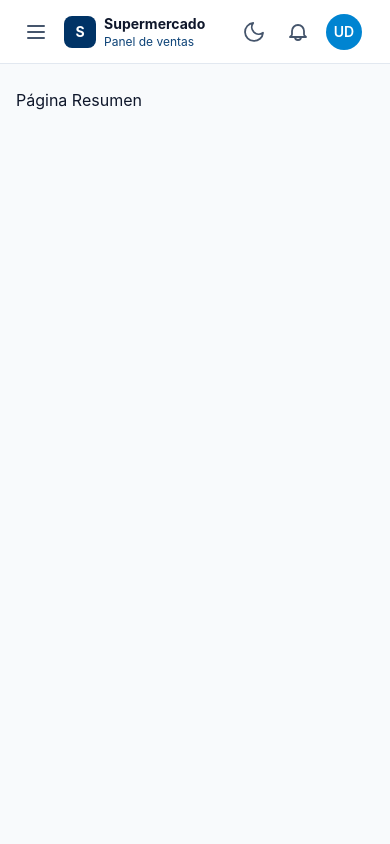
Test: PanelLayout: cajón móvil › al elegir una opción navega y se cierra
Click the button named "Abrir menú".
click(36, 32)  # box [16, 12, 56, 52]
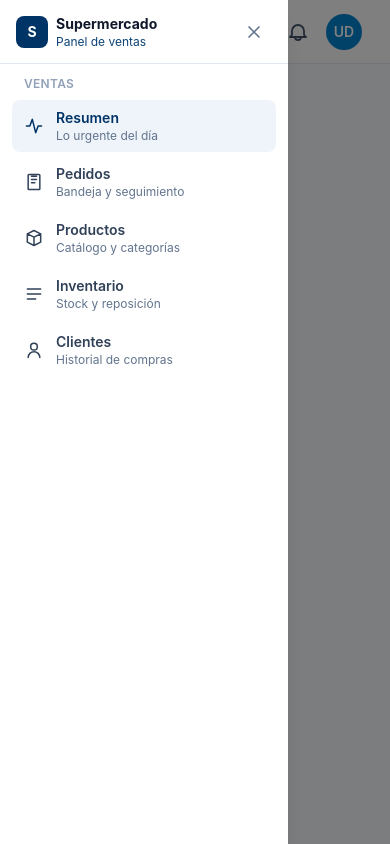
Click the link "Pedidos Bandeja y seguimiento".
click(104, 182)  # box [24, 165, 184, 199]
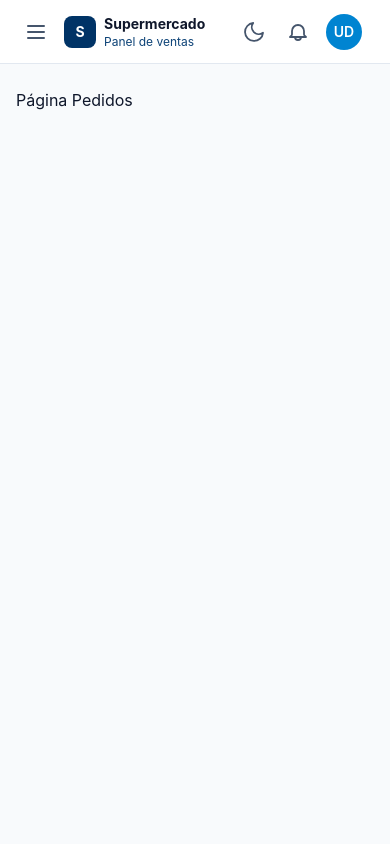
Check: the text "Página Pedidos" is shown, box [16, 90, 133, 110]
Check: the button "Menú" is gone
